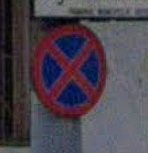oprirea_interzisa: (32, 24, 106, 116)
